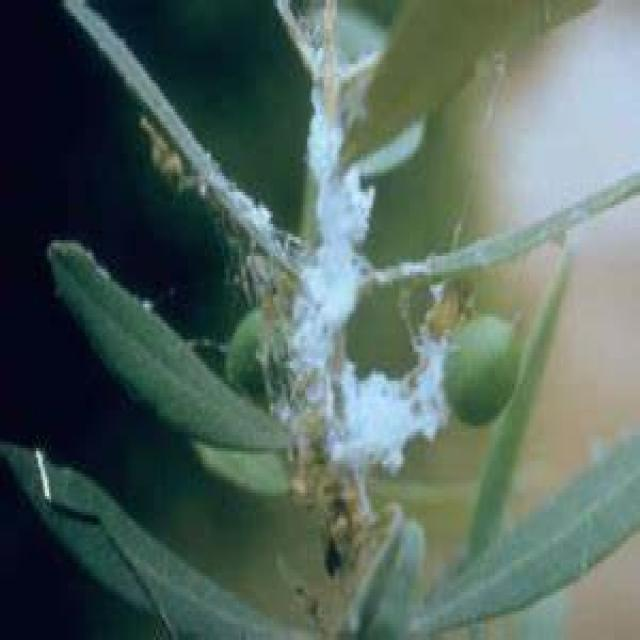Psyllid: (245, 244, 446, 486), (308, 10, 387, 278)
